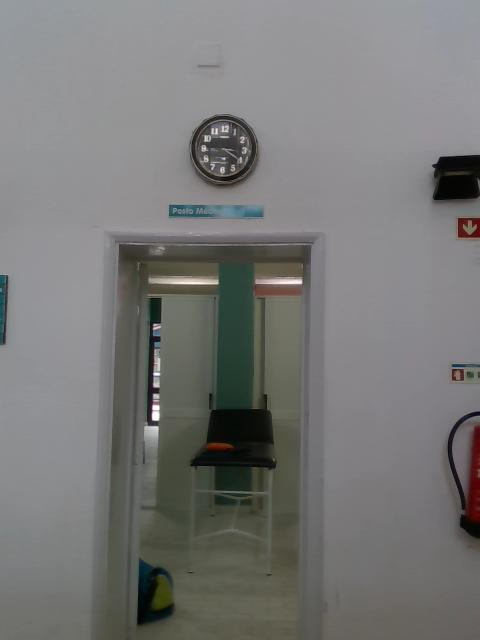open_door: (90, 228, 323, 639)
